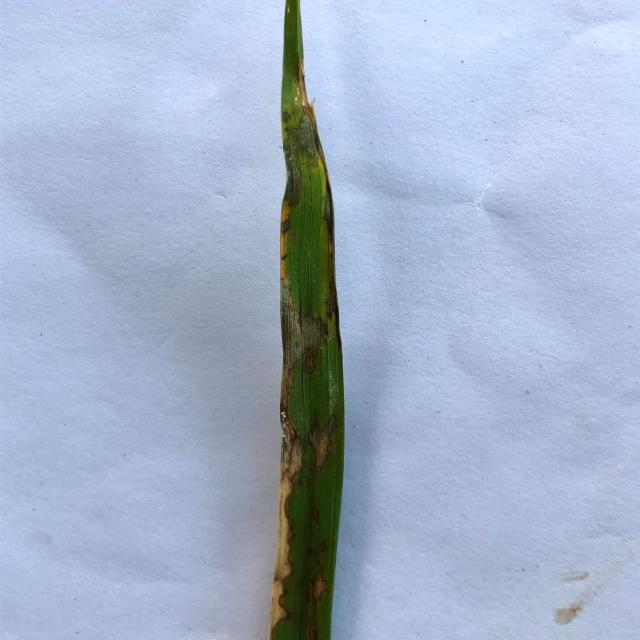Leaf Blight: (269, 277, 327, 639), (297, 58, 335, 258), (308, 414, 337, 474), (324, 276, 341, 351), (311, 568, 328, 607), (307, 610, 317, 640), (280, 218, 289, 236)
